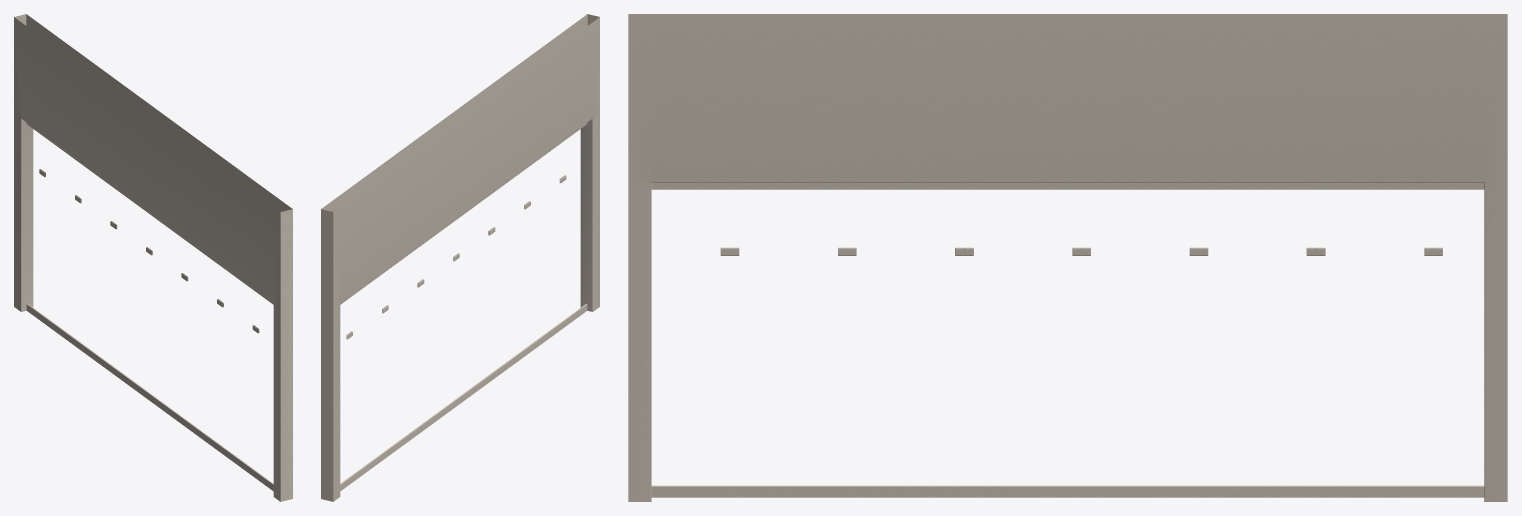
File: SM_Office_Wall01v.fbx
3 renders of one model, left to right at view 1: azimuth 30°, elevation 25°; view 2: azimuth 150°, elevation 25°; view 3: azimuth 270°, elevation 25°, orthographic. The views are drawn at different scales.
Parts seen in each view (by area): view 1: SM_Office_Wall01v_LOD0; view 2: SM_Office_Wall01v_LOD0; view 3: SM_Office_Wall01v_LOD0.
Boxes of the visible parts, box(x1,y1,x2,y2) form: SM_Office_Wall01v_LOD0: box(14, 14, 292, 501); SM_Office_Wall01v_LOD0: box(321, 14, 599, 501); SM_Office_Wall01v_LOD0: box(628, 14, 1507, 501).
Bounding box in the file's own units: 19.94 × 750 × 450.
